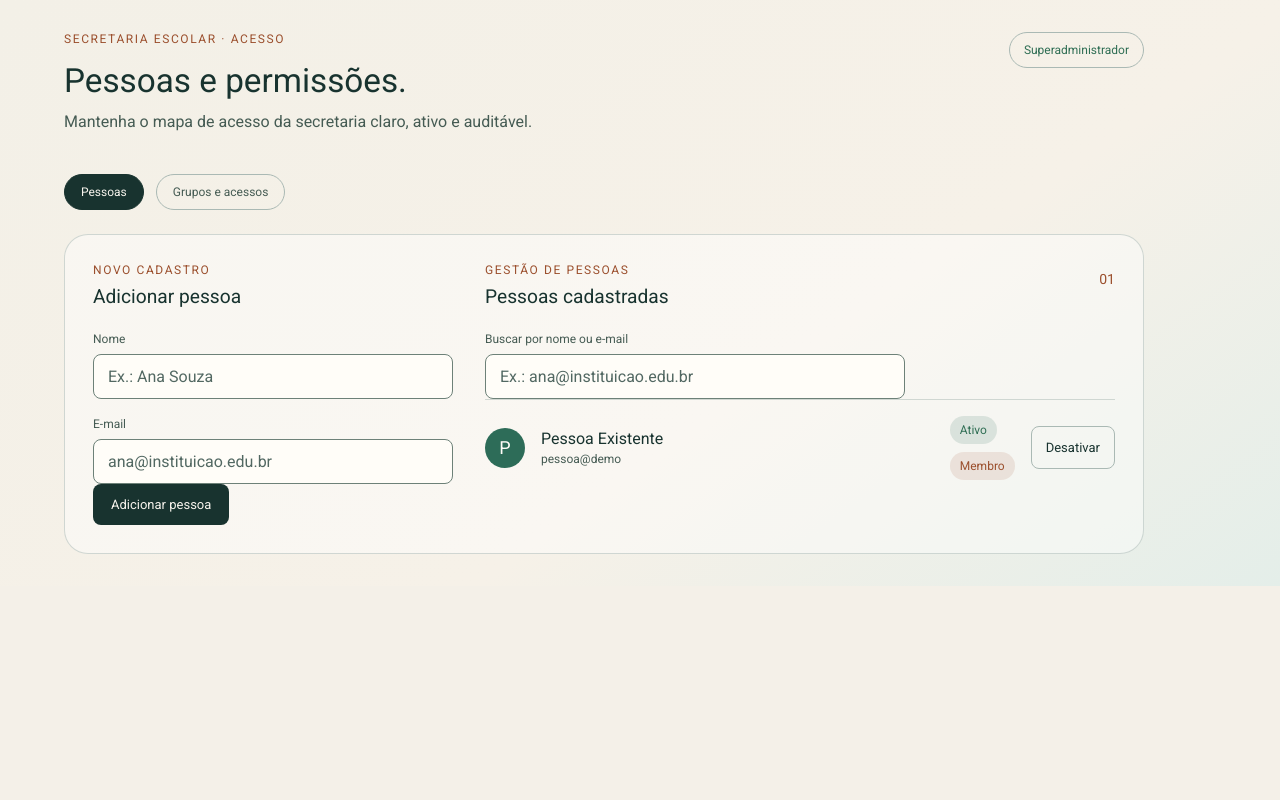
Test: Admin UX › keeps the people list visible when createUser fails
expect the heading "Pessoa Existente" is shown: met, box 541,429 -> 663,448
Type "Nova Pessoa" into the field labelled "Nome" at x=273, y=376, box 93,354 -> 453,399
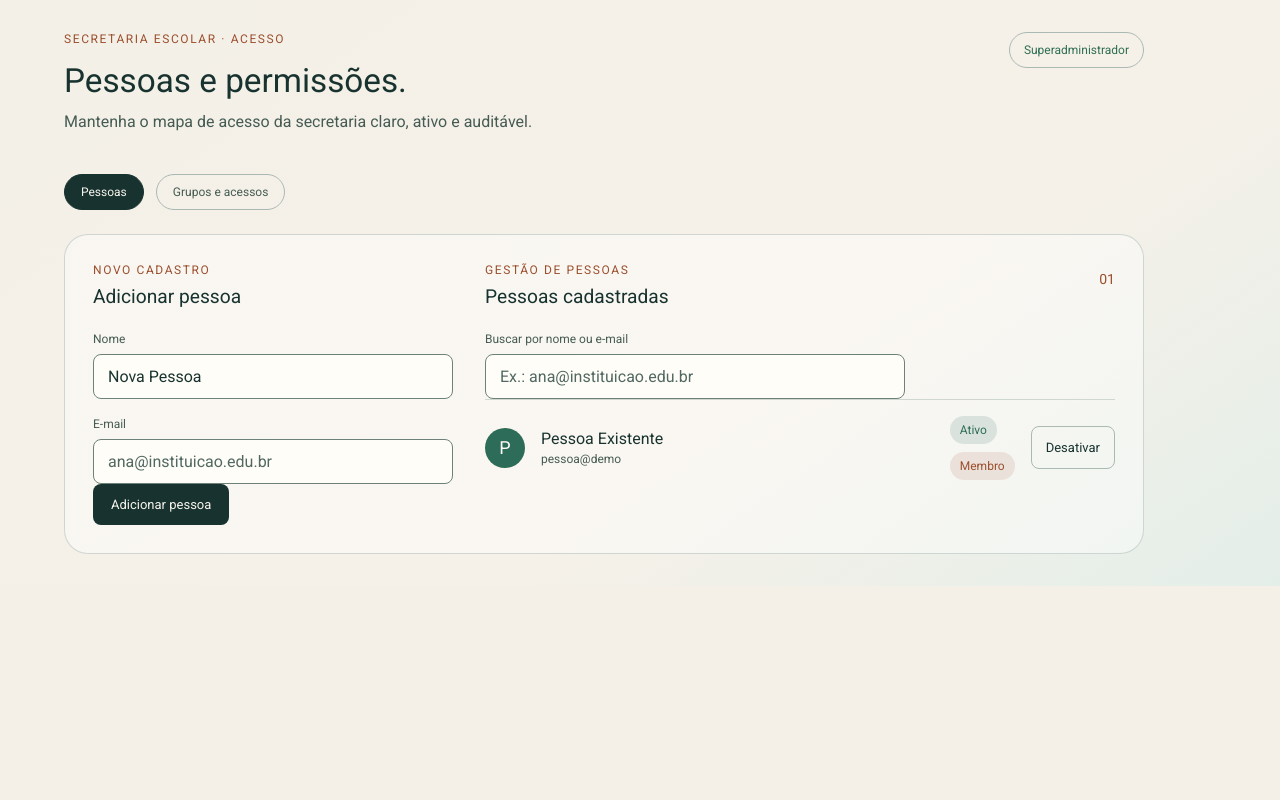
Type "pessoa@demo" into the field labelled "E-mail" at x=273, y=461, box 93,439 -> 453,484
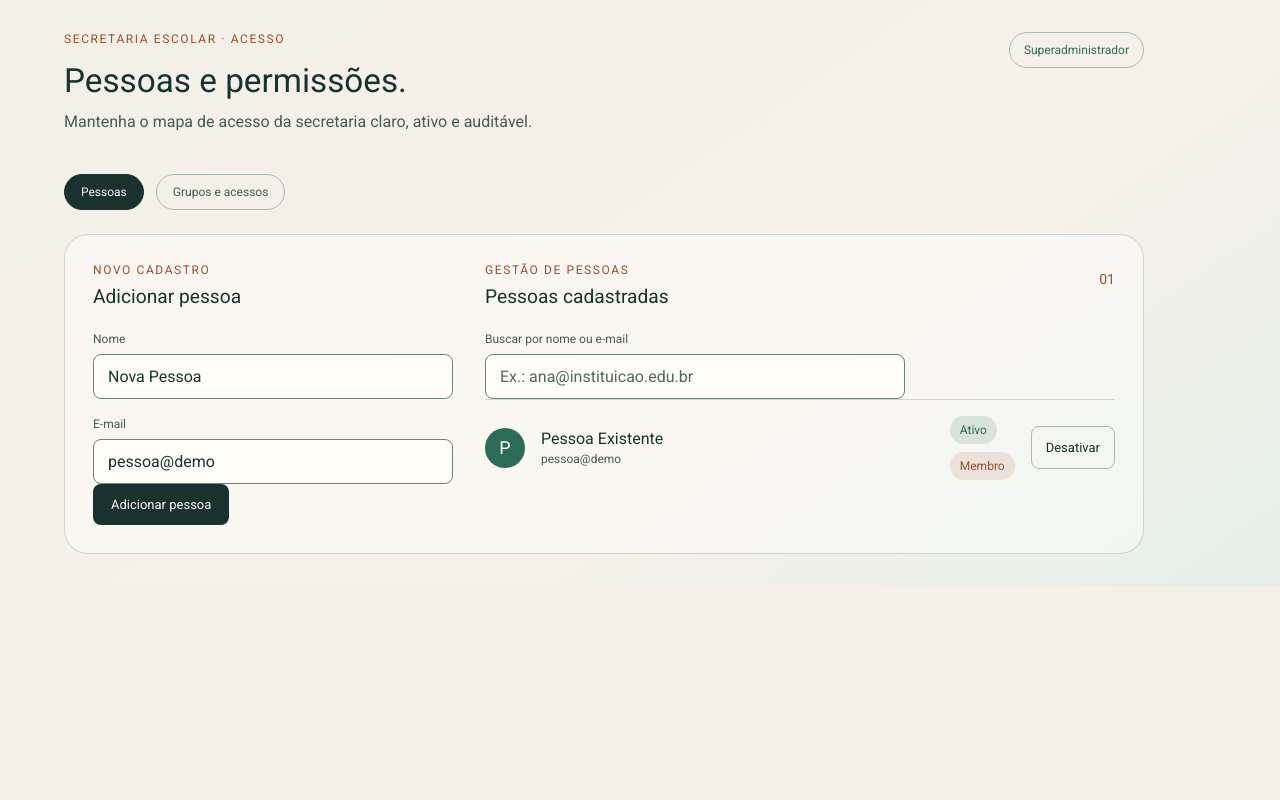
Click the button "Adicionar pessoa" at x=161, y=504, box 93,484 -> 229,525
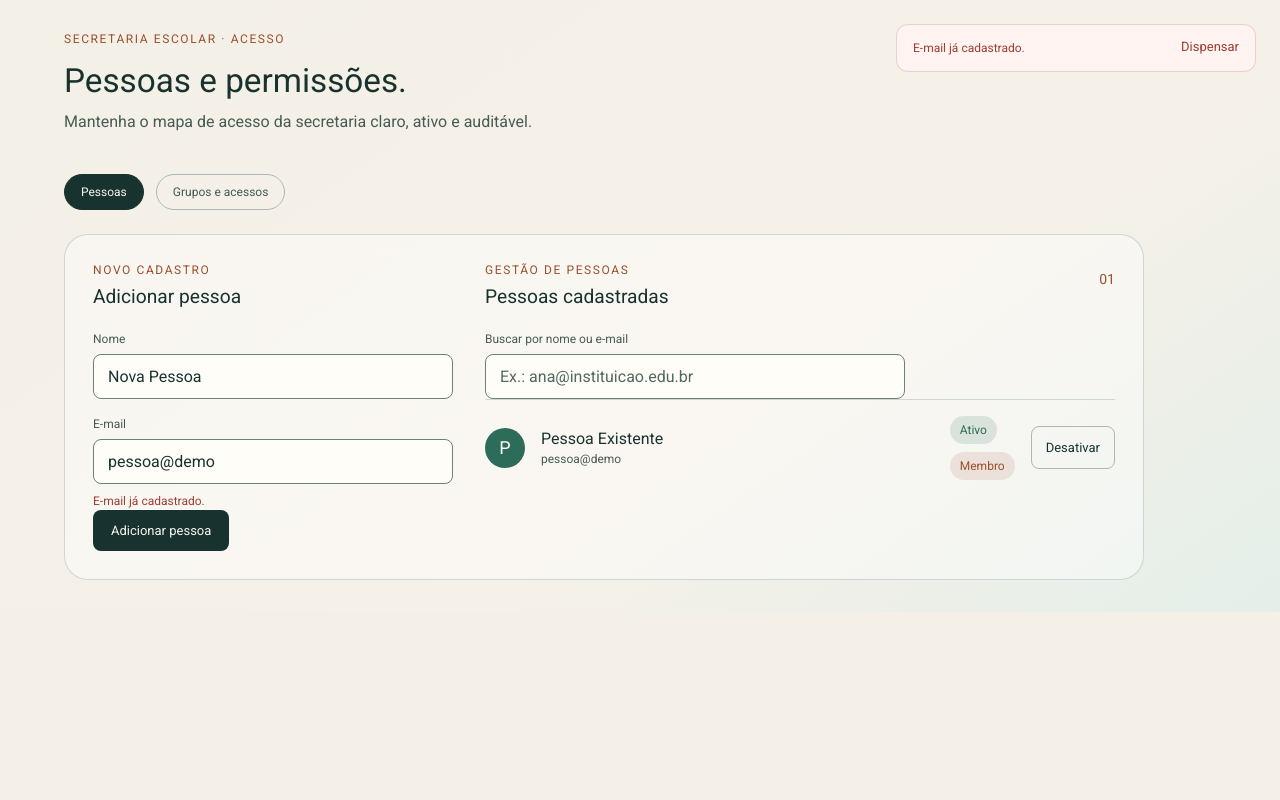
expect the heading "Pessoa Existente" is shown: met, box 541,429 -> 663,448
expect the text "E-mail já cadastrado." is shown 2 times: met, box 913,39 -> 1025,57; 93,494 -> 205,508
